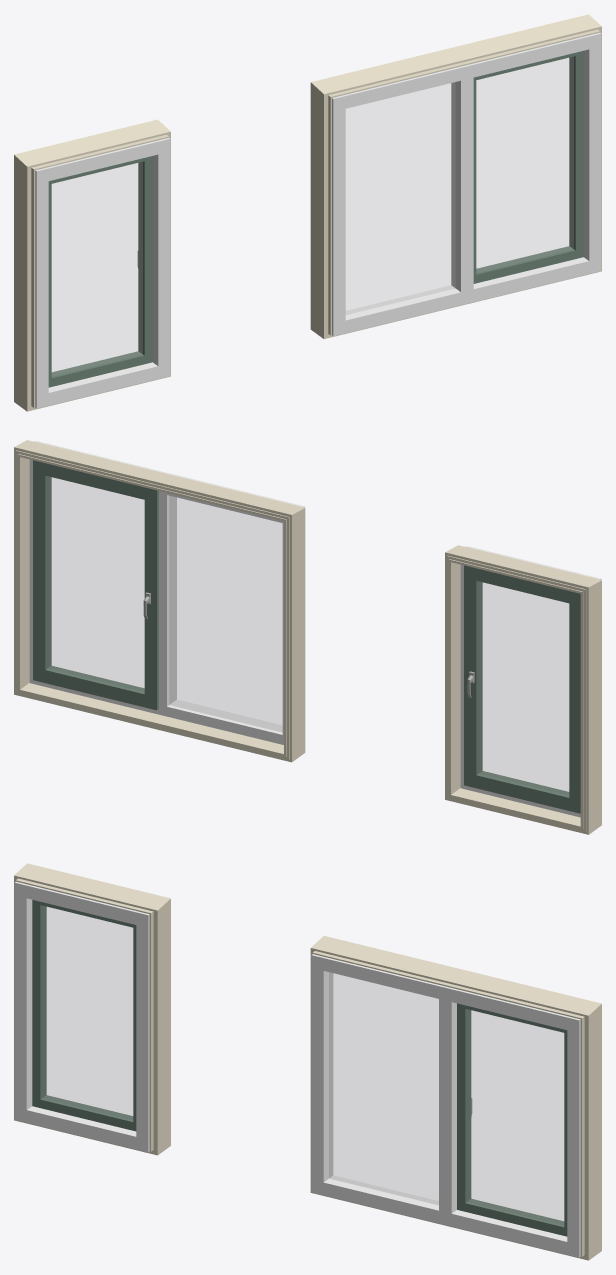
The picture shows the model from 3 angles, top to bottom: view 1: azimuth 30°, elevation 25°; view 2: azimuth 150°, elevation 25°; view 3: azimuth 330°, elevation 25°; orthographic projection.
Parts seen in each view (by area): view 1: [8663613]Merk B-001, [8663611]Merk G-001.sp, [8663614]DEL_Merk B 2, [8663612]DEL_Merk G; view 2: [8663613]Merk B-001, [8663611]Merk G-001.sp, [8663614]DEL_Merk B 2, [8663612]DEL_Merk G; view 3: [8663613]Merk B-001, [8663611]Merk G-001.sp, [8663614]DEL_Merk B 2, [8663612]DEL_Merk G.
Boxes of the visible parts, x1,y1,x2,y2 form: [8663613]Merk B-001: (332, 32, 601, 336); [8663611]Merk G-001.sp: (35, 138, 170, 408); [8663614]DEL_Merk B 2: (310, 14, 601, 338); [8663612]DEL_Merk G: (14, 119, 170, 411); [8663613]Merk B-001: (29, 441, 304, 744); [8663611]Merk G-001.sp: (460, 546, 601, 817); [8663614]DEL_Merk B 2: (14, 440, 305, 762); [8663612]DEL_Merk G: (445, 545, 601, 834); [8663613]Merk B-001: (311, 954, 580, 1257); [8663611]Merk G-001.sp: (14, 881, 149, 1152); [8663614]DEL_Merk B 2: (310, 936, 601, 1260); [8663612]DEL_Merk G: (14, 863, 170, 1155).
Size of the model in its own units: 3.77 by 1.55 by 0.212.
